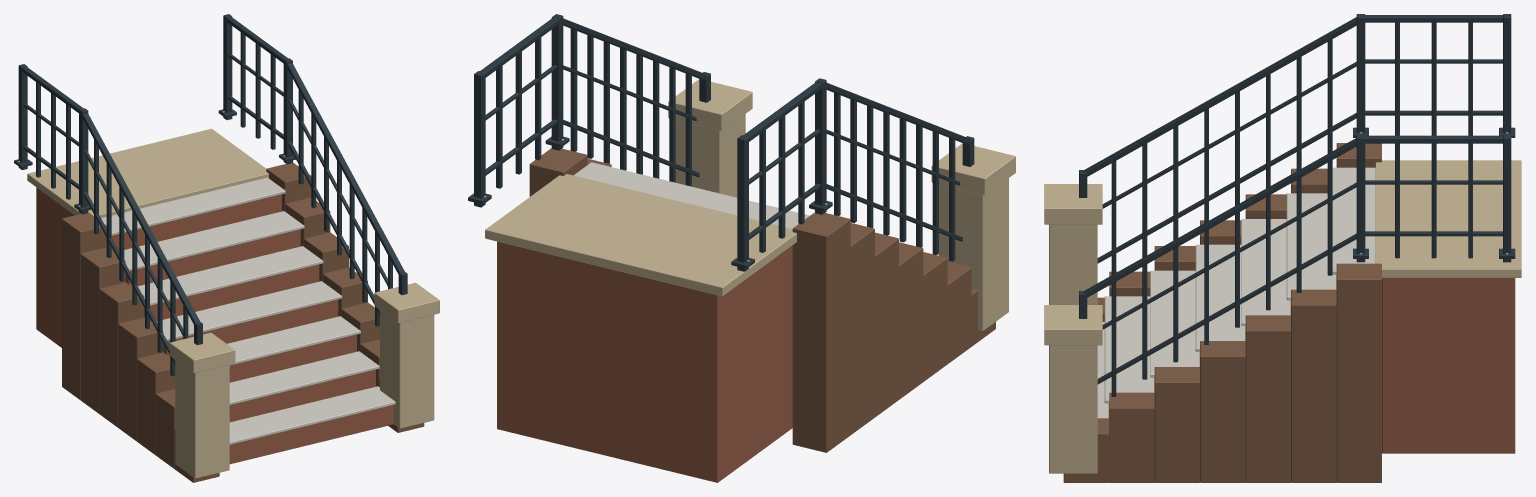
The model's file is b12_brownstone_entry_stair.glb.
3 renders of one model, left to right at view 1: azimuth 30°, elevation 25°; view 2: azimuth 150°, elevation 25°; view 3: azimuth 270°, elevation 25°, orthographic. The views are drawn at different scales.
Parts seen in each view (by area): view 1: b12_brownstone_entry_stair; view 2: b12_brownstone_entry_stair; view 3: b12_brownstone_entry_stair.
Part boxes in pixels (left/top/right/bottom): b12_brownstone_entry_stair: left=14, top=14, right=439, bottom=482; b12_brownstone_entry_stair: left=468, top=14, right=1015, bottom=482; b12_brownstone_entry_stair: left=1044, top=14, right=1521, bottom=482.
Size of the model in its own units: 2.12 by 2.3 by 2.94.
